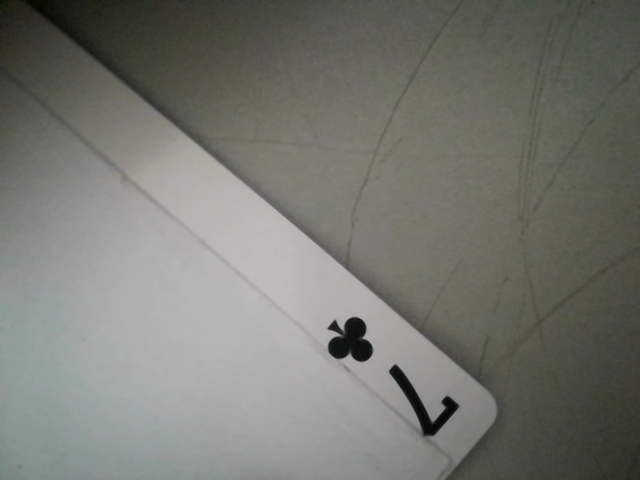mh 7: (310, 305, 478, 450)
